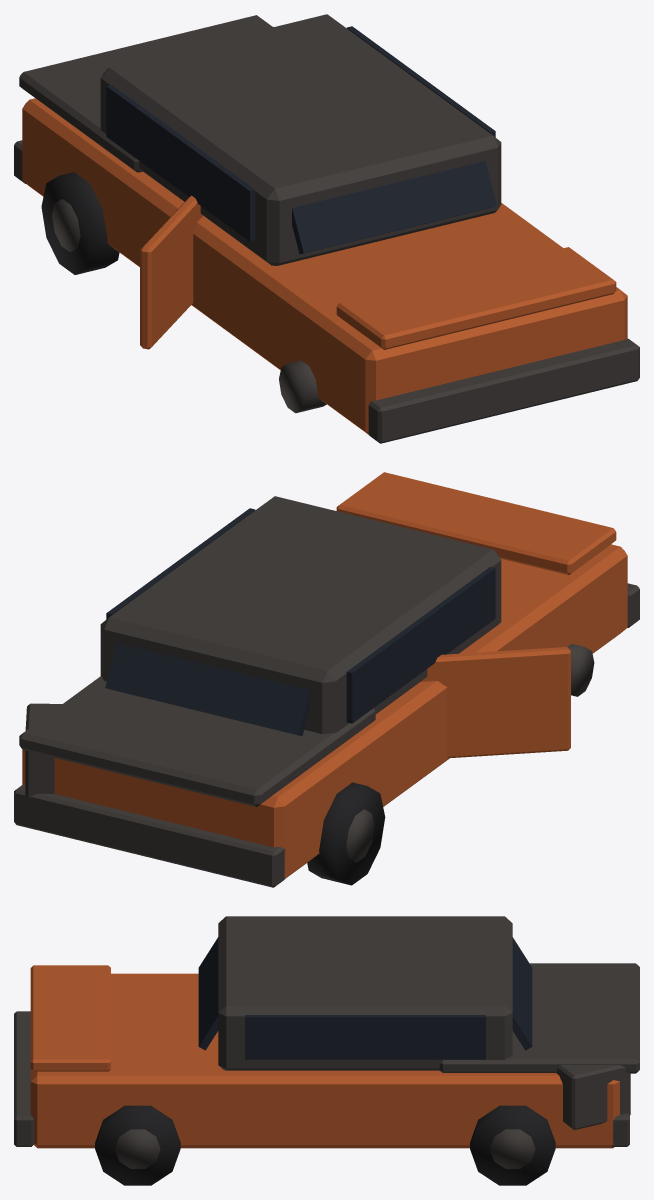
Rendered from car_wreck.glb.
The picture shows the model from 3 angles, top to bottom: view 1: azimuth 30°, elevation 25°; view 2: azimuth 150°, elevation 25°; view 3: azimuth 270°, elevation 25°; orthographic projection. The views are drawn at different scales.
Parts seen in each view (by area): view 1: CarWreck; view 2: CarWreck; view 3: CarWreck.
Boxes of the visible parts, x1,y1,x2,y2 form: CarWreck: (14, 14, 639, 443); CarWreck: (14, 472, 639, 887); CarWreck: (14, 916, 639, 1185).
Size of the model in its own units: 2.63 by 1.36 by 4.67.
